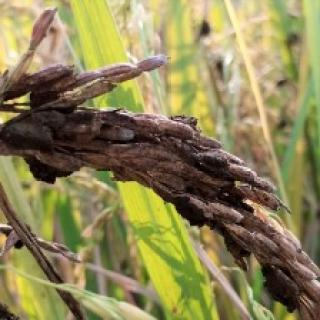Gosong-Palsu: (256, 257, 306, 313)
